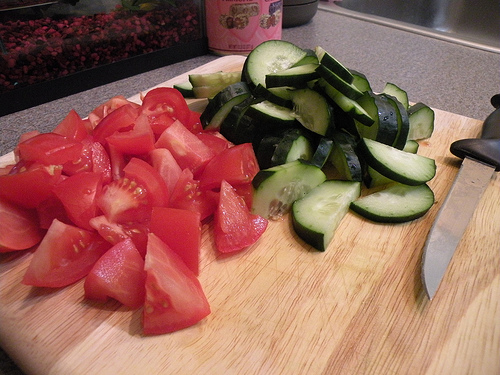cucumber: (174, 38, 437, 251)
